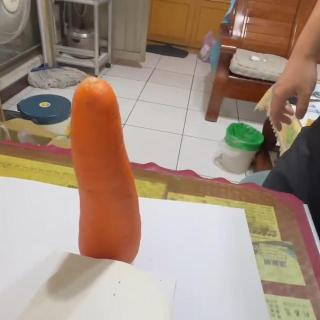carrot: (72, 79, 144, 265)
